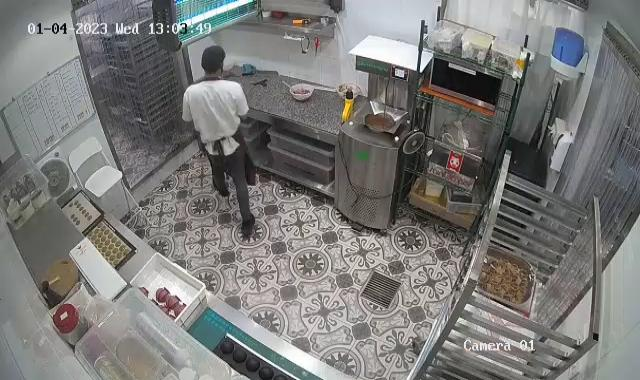no_hairnet: (201, 44, 226, 78)
